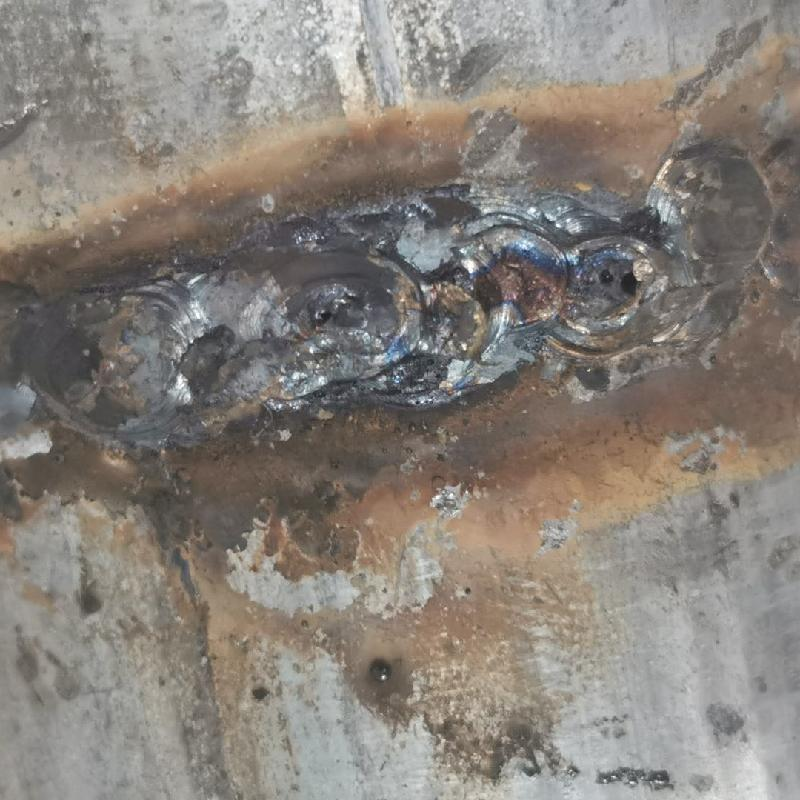Surface_pores: (593, 260, 652, 307)
crater: (217, 240, 672, 372), (660, 135, 797, 306)
